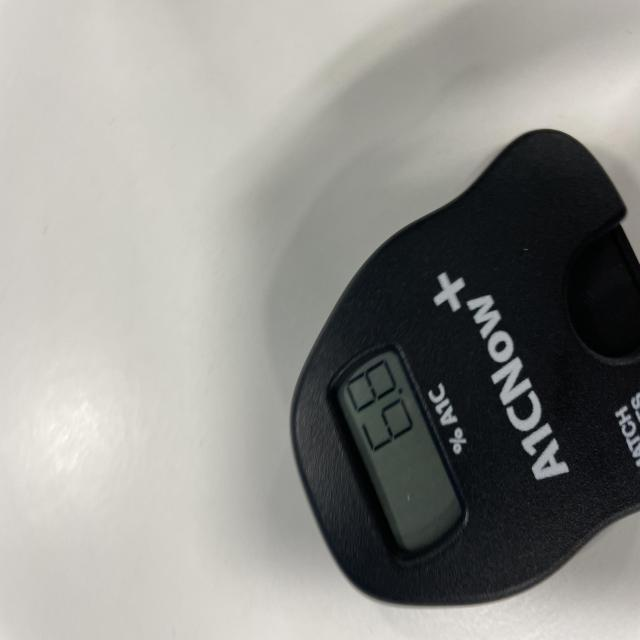hba1c: (288, 129, 640, 611)
